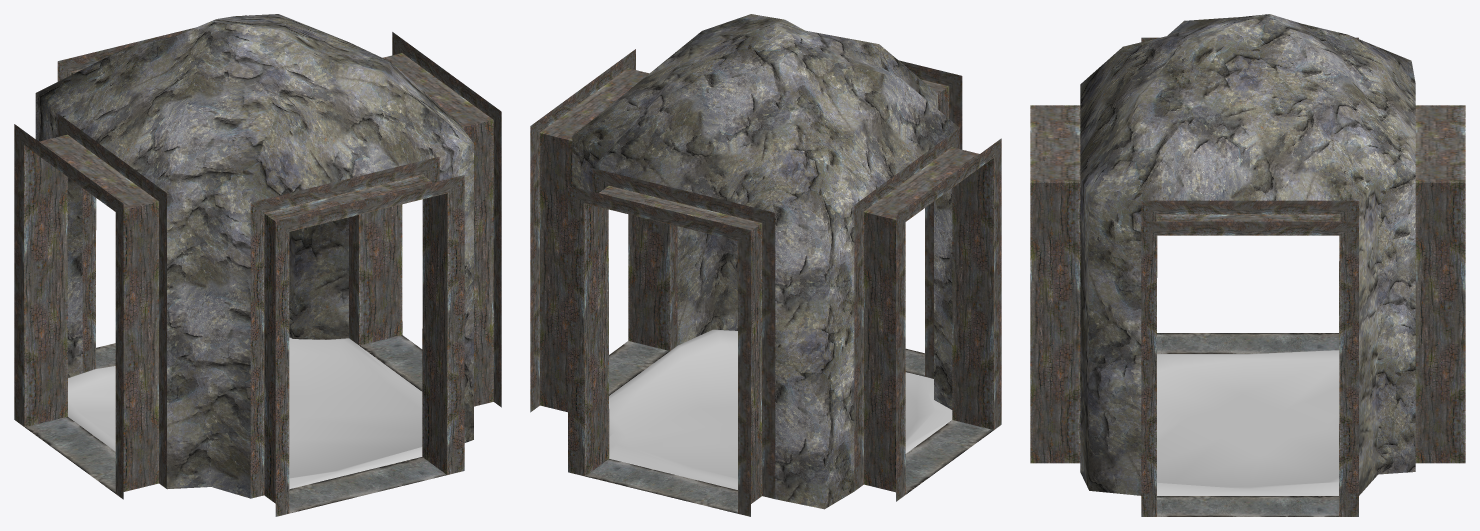
Rendered from RockyTunnel4way.FBX.
The picture shows the model from 3 angles, left to right: view 1: azimuth 30°, elevation 25°; view 2: azimuth 150°, elevation 25°; view 3: azimuth 270°, elevation 25°; orthographic projection. The views are drawn at different scales.
Parts seen in each view (by area): view 1: Object109; view 2: Object109; view 3: Object109.
Part boxes in pixels (x1,y1,x2,y2): Object109: [14, 14, 501, 516]; Object109: [530, 14, 1001, 516]; Object109: [1030, 14, 1465, 516].
Size of the model in its own units: 500 by 498 by 500.
